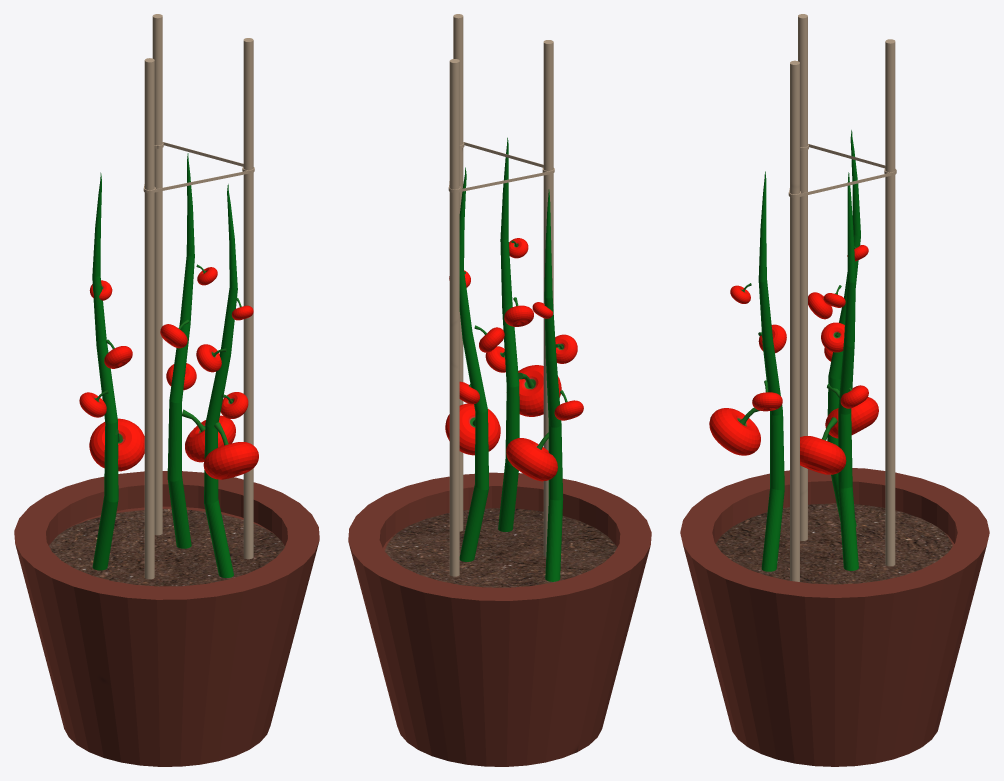
Rendered from tomates.obj.
3 views of the same model, side by side, from view 1: azimuth 30°, elevation 25°; view 2: azimuth 150°, elevation 25°; view 3: azimuth 270°, elevation 25° (orthographic).
Parts seen in each view (by area): view 1: Cylinder; view 2: Cylinder; view 3: Cylinder.
Part boxes in pixels (<box>): Cylinder: <box>14,14,319,766</box>; Cylinder: <box>348,14,651,766</box>; Cylinder: <box>680,14,989,766</box>.
Size of the model in its own units: 1.79 by 4.4 by 1.79.
13 materials, 13 textured.
